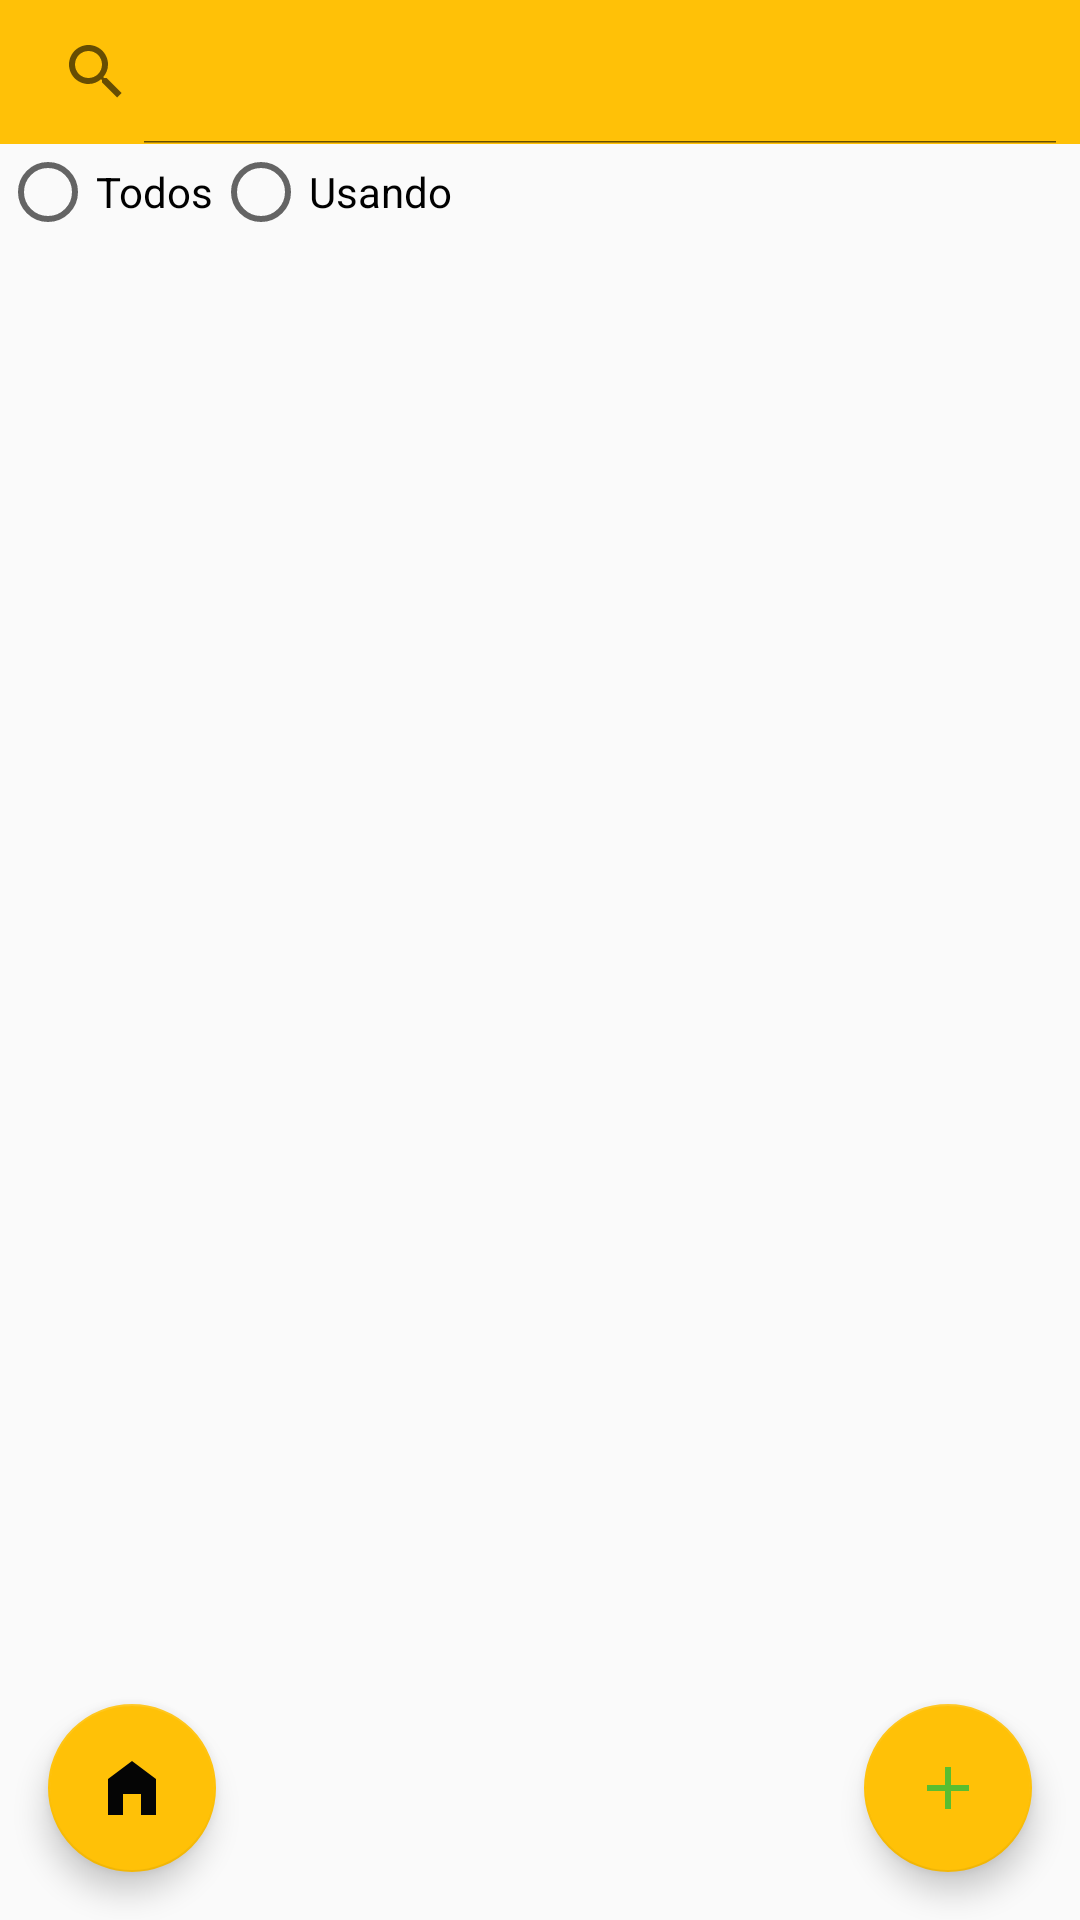

Where to tap for icons on this 1080 × 1920 app screen, as (x=x, y=y):
add: (x=948, y=1788)
home: (x=132, y=1788)
